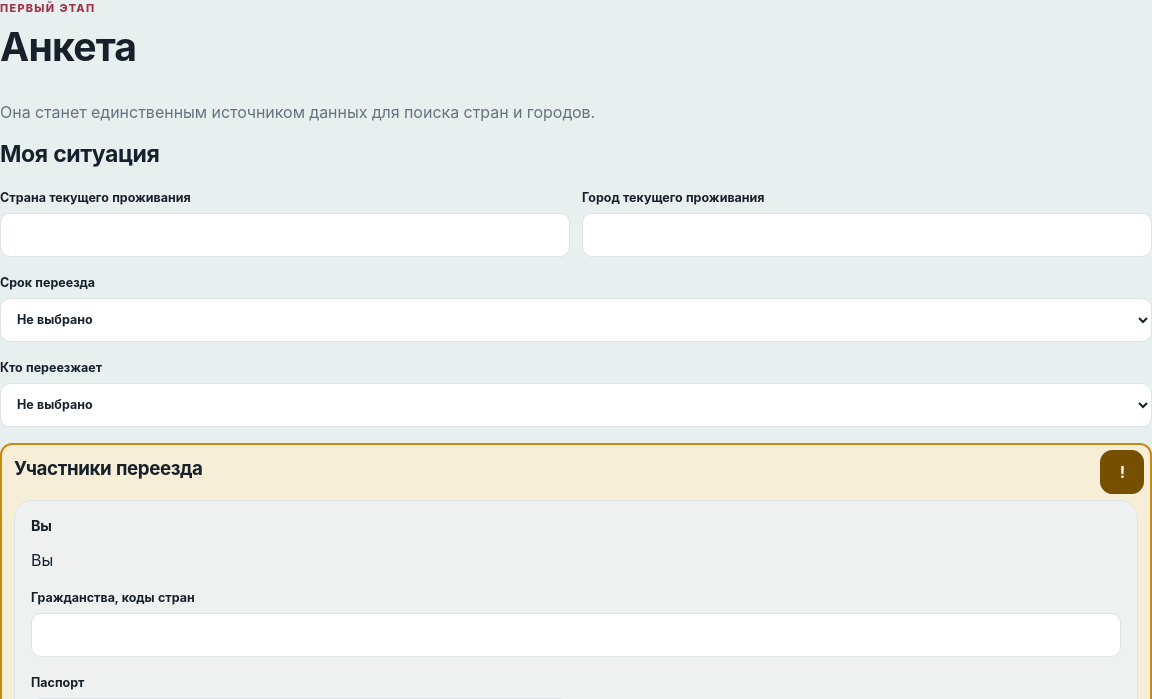
Test: onboarding questionnaire › describes a yellow participant-roster overwrite without exposing participant IDs
Click the button named "Проверить изменение: Участники переезда" at [1122, 472], box [1100,450,1144,494]
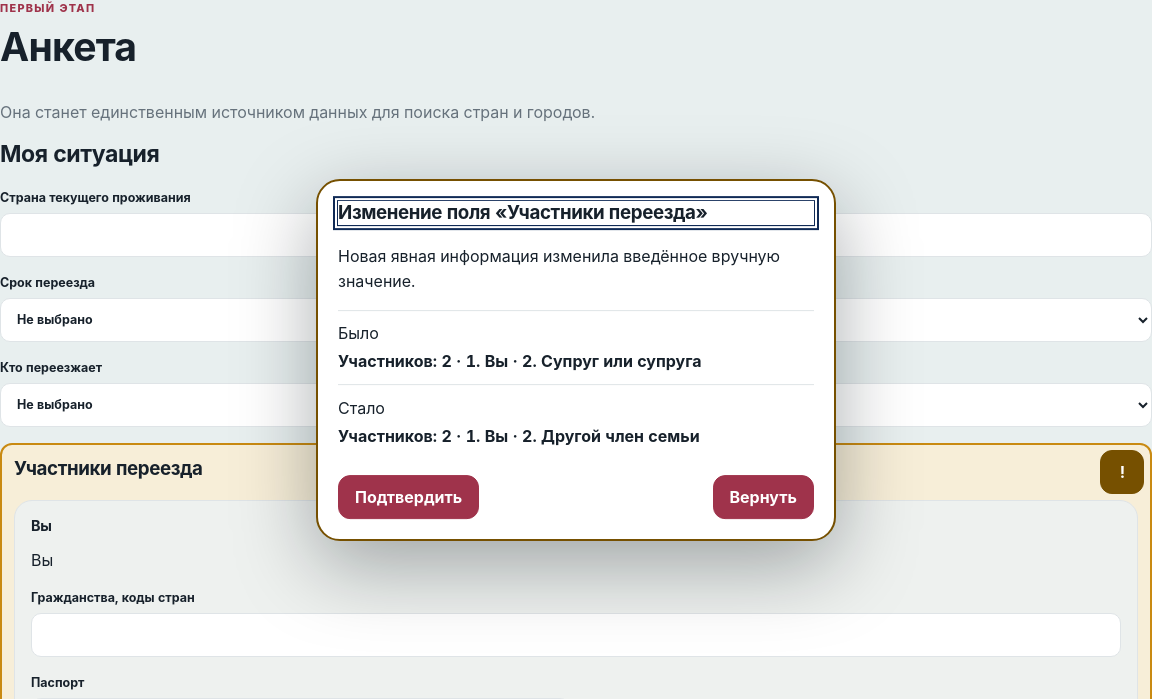
Now the text "Участников: 2 · 1. Вы · 2. Супруг или супруга" is shown, box [338,351,702,371]
Now the text "Участников: 2 · 1. Вы · 2. Другой член семьи" is shown, box [338,426,700,446]
